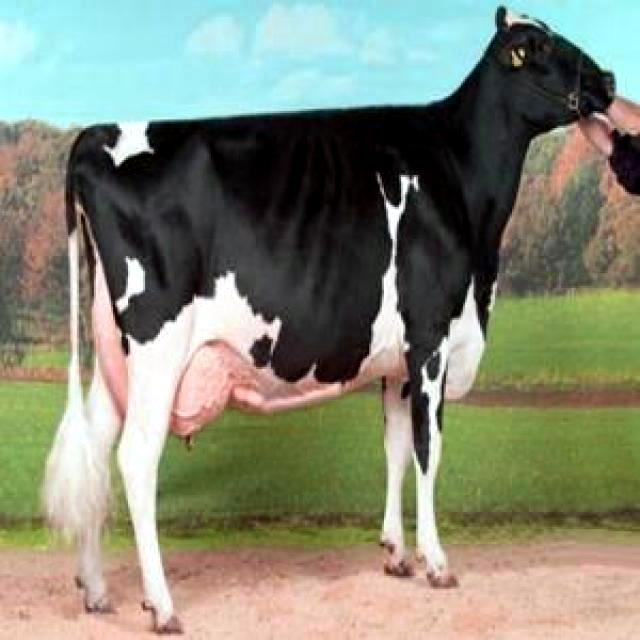COW: (44, 9, 614, 633)
